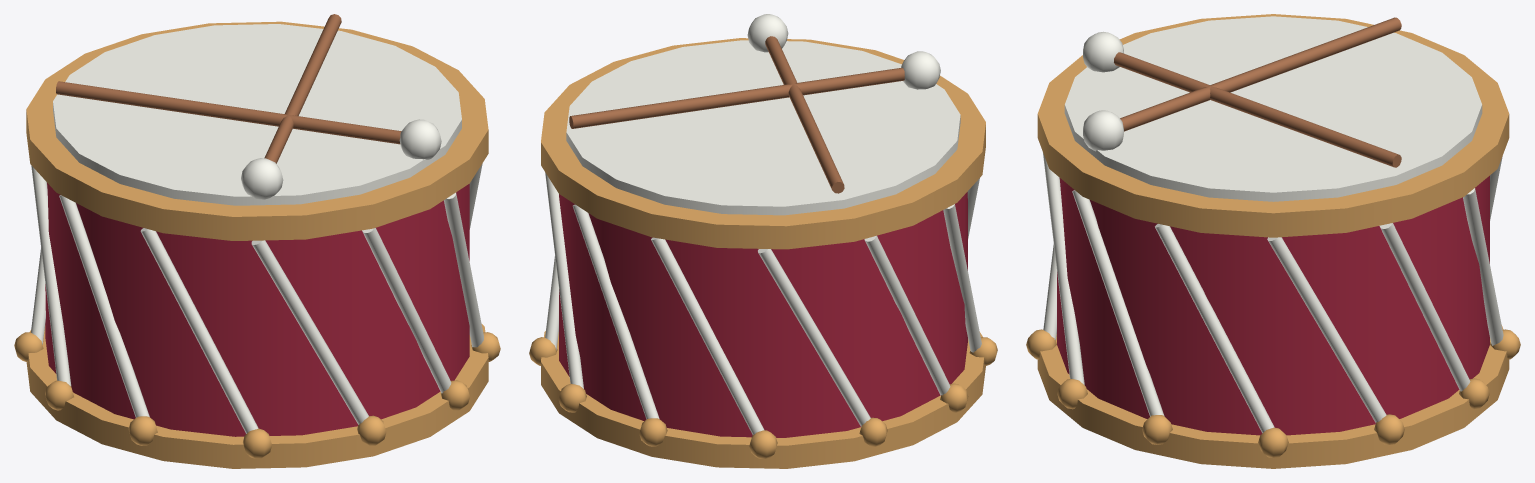
The model's file is storybook-christmas-market-laced-toy-drum-99058b1e__19732.glb.
3 views of the same model, side by side, from view 1: azimuth 30°, elevation 25°; view 2: azimuth 150°, elevation 25°; view 3: azimuth 270°, elevation 25° (orthographic). The views are drawn at different scales.
Visible parts, largest first — view 1: laced-toy-drum; view 2: laced-toy-drum; view 3: laced-toy-drum.
Part boxes in pixels (x1,y1,x2,y2): laced-toy-drum: (14, 14, 500, 468); laced-toy-drum: (529, 14, 997, 468); laced-toy-drum: (1026, 14, 1520, 468).
Size of the model in its own units: 0.64 by 0.423 by 0.64.
